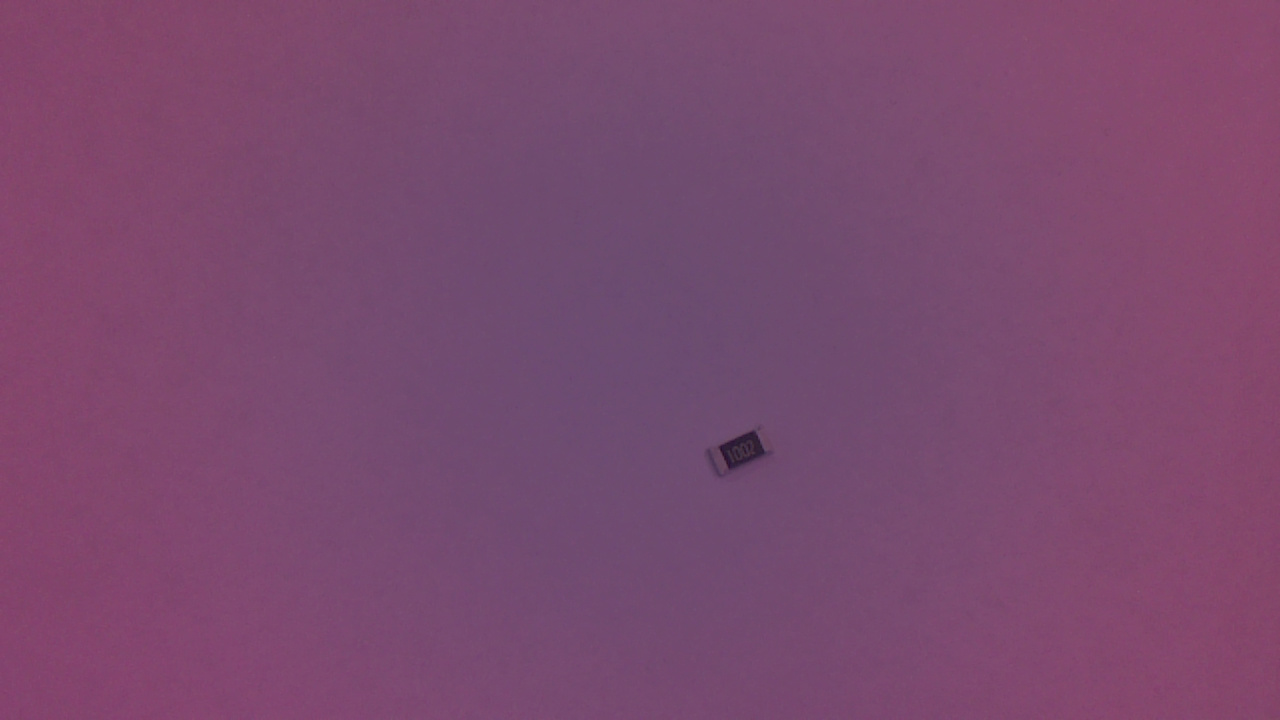Resistor: (709, 422, 784, 485)
